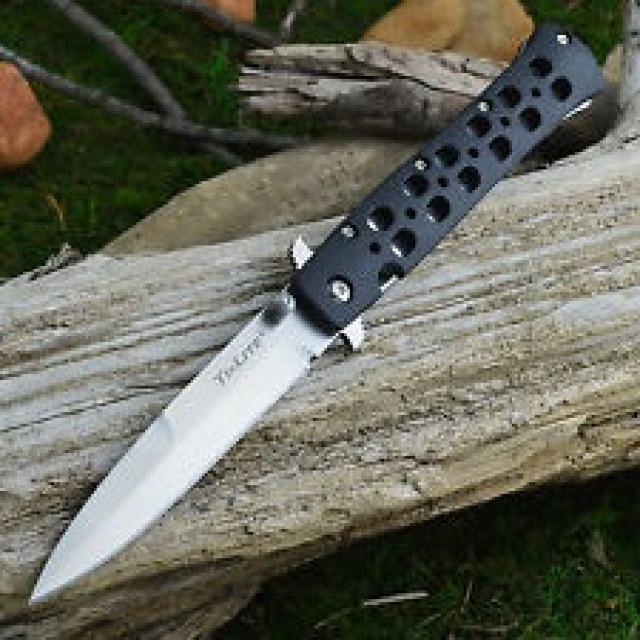knife: (22, 20, 615, 619)
